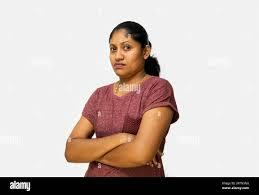Human: (64, 17, 177, 188)
